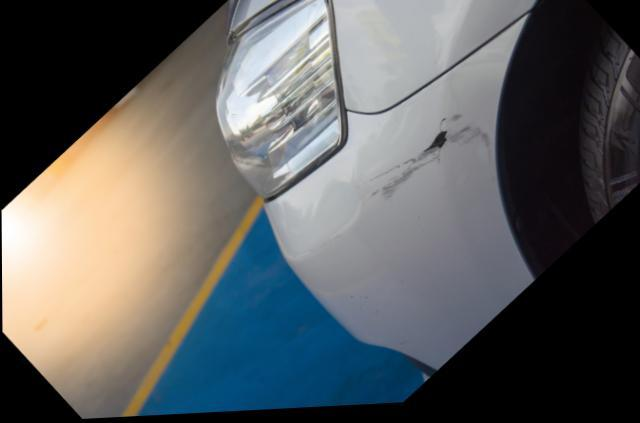scratch: (362, 117, 495, 202)
